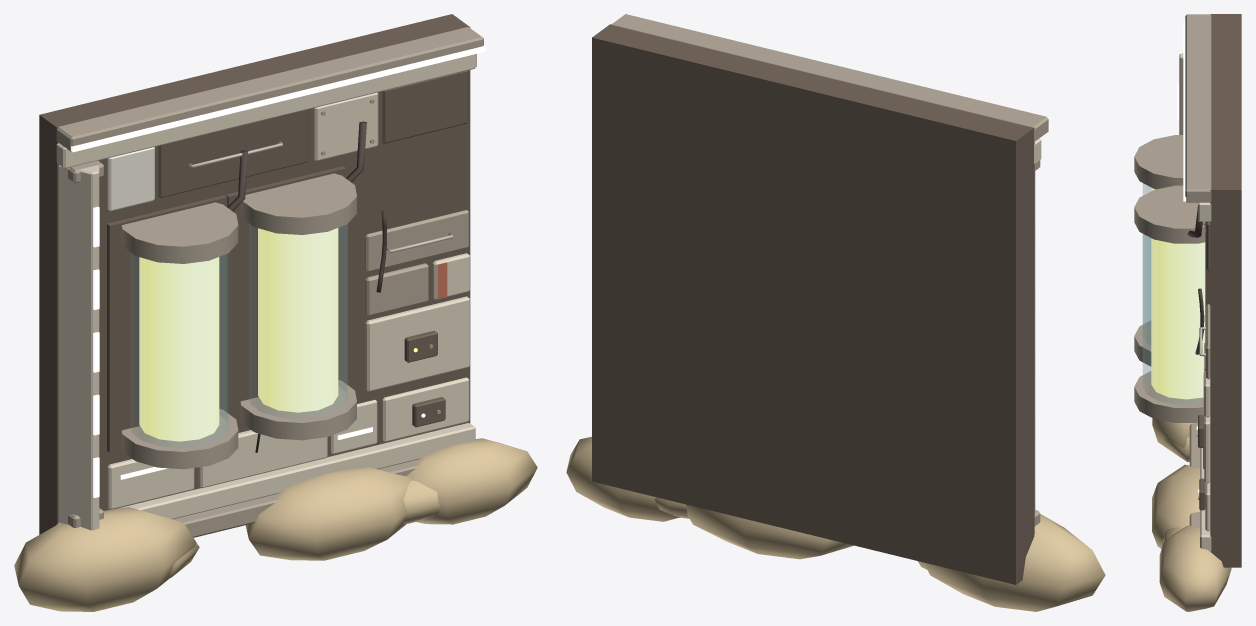
The model's file is wall_du_tank.glb.
3 views of the same model, side by side, from view 1: azimuth 30°, elevation 25°; view 2: azimuth 150°, elevation 25°; view 3: azimuth 270°, elevation 25° (orthographic). The views are drawn at different scales.
Visible parts, largest first — view 1: wall_du_tank; view 2: wall_du_tank; view 3: wall_du_tank.
Boxes of the visible parts, x1,y1,x2,y2 form: wall_du_tank: (14,14,537,611); wall_du_tank: (566,14,1105,611); wall_du_tank: (1134,14,1241,611).
Size of the model in its own units: 5.04 by 4.47 by 1.03.
